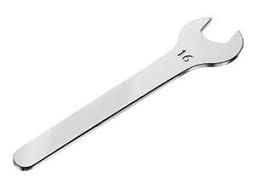wrench: (11, 15, 244, 171)
